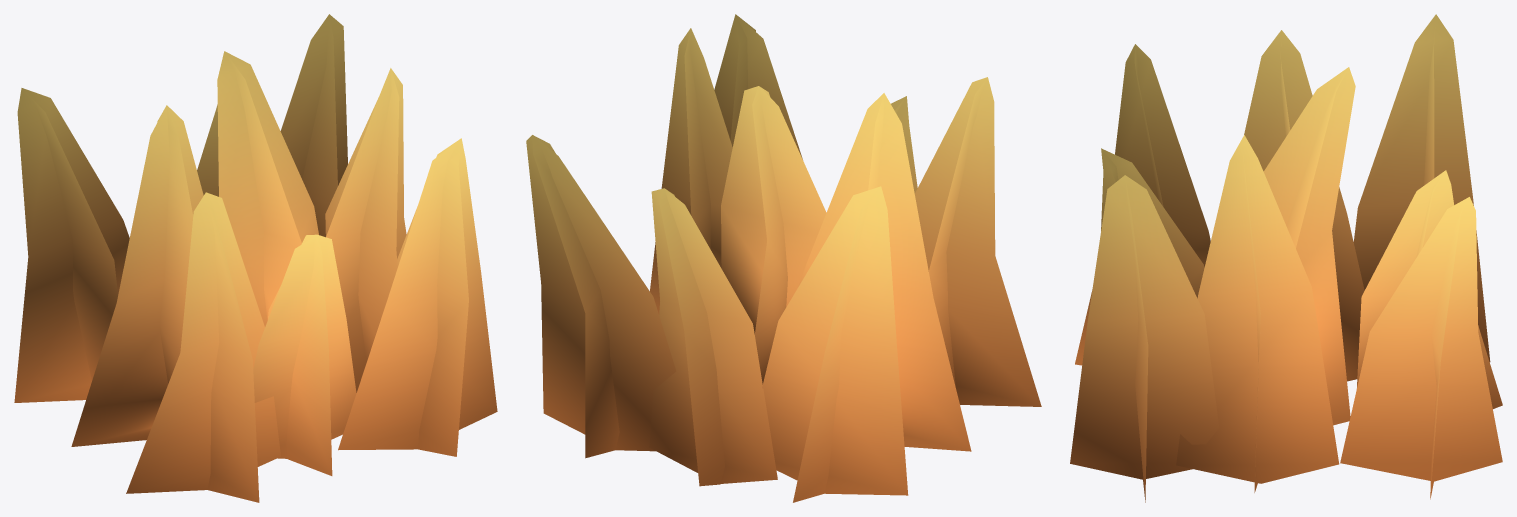
The model's file is HI_Grass_1x1x1.fbx.
3 views of the same model, side by side, from view 1: azimuth 30°, elevation 25°; view 2: azimuth 150°, elevation 25°; view 3: azimuth 270°, elevation 25° (orthographic). The views are drawn at different scales.
Visible parts, largest first — view 1: HI_Grass_1x1x1; view 2: HI_Grass_1x1x1; view 3: HI_Grass_1x1x1.
Part boxes in pixels (left/top/right/bottom): HI_Grass_1x1x1: left=14, top=14, right=497, bottom=502; HI_Grass_1x1x1: left=526, top=14, right=1041, bottom=502; HI_Grass_1x1x1: left=1070, top=14, right=1502, bottom=502.
Bounding box in the file's own units: 111 × 103 × 110.
